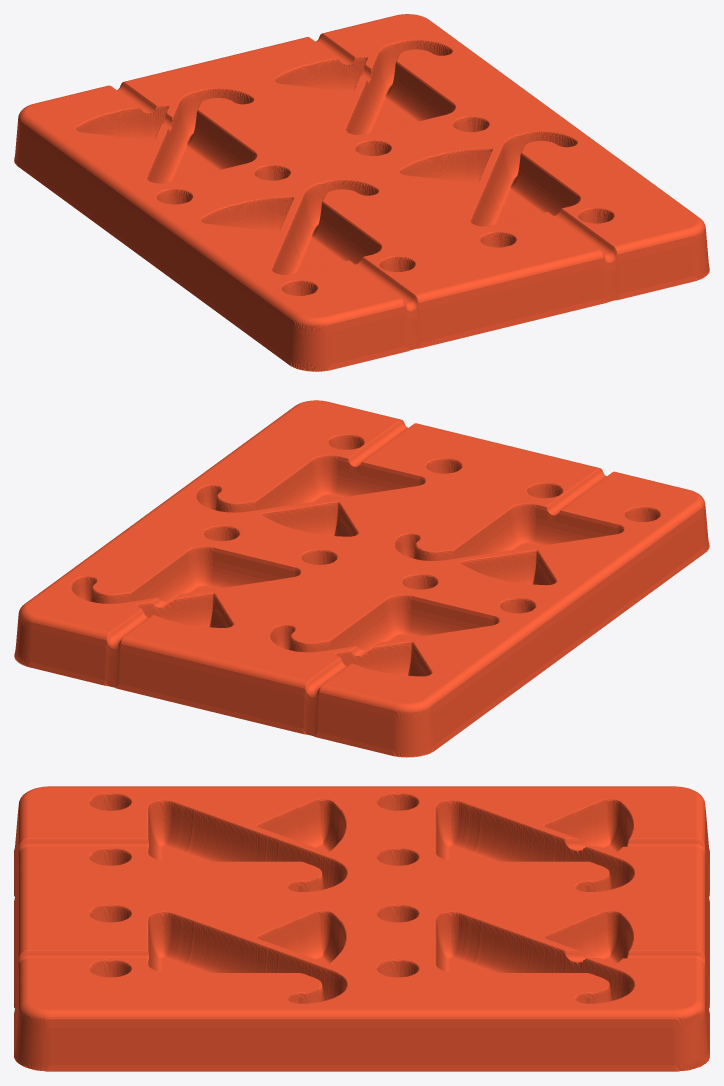
The model's file is mold.glb.
3 views of the same model, one above another, from view 1: azimuth 30°, elevation 25°; view 2: azimuth 150°, elevation 25°; view 3: azimuth 270°, elevation 25° (orthographic). The views are drawn at different scales.
Visible parts, largest first — view 1: geometry_0; view 2: geometry_0; view 3: geometry_0.
Boxes of the visible parts, left/top/right/bottom form: geometry_0: left=14, top=14, right=709, bottom=371; geometry_0: left=14, top=400, right=709, bottom=757; geometry_0: left=14, top=786, right=709, bottom=1071.
Size of the model in its own units: 0.138 by 0.0155 by 0.1735.
